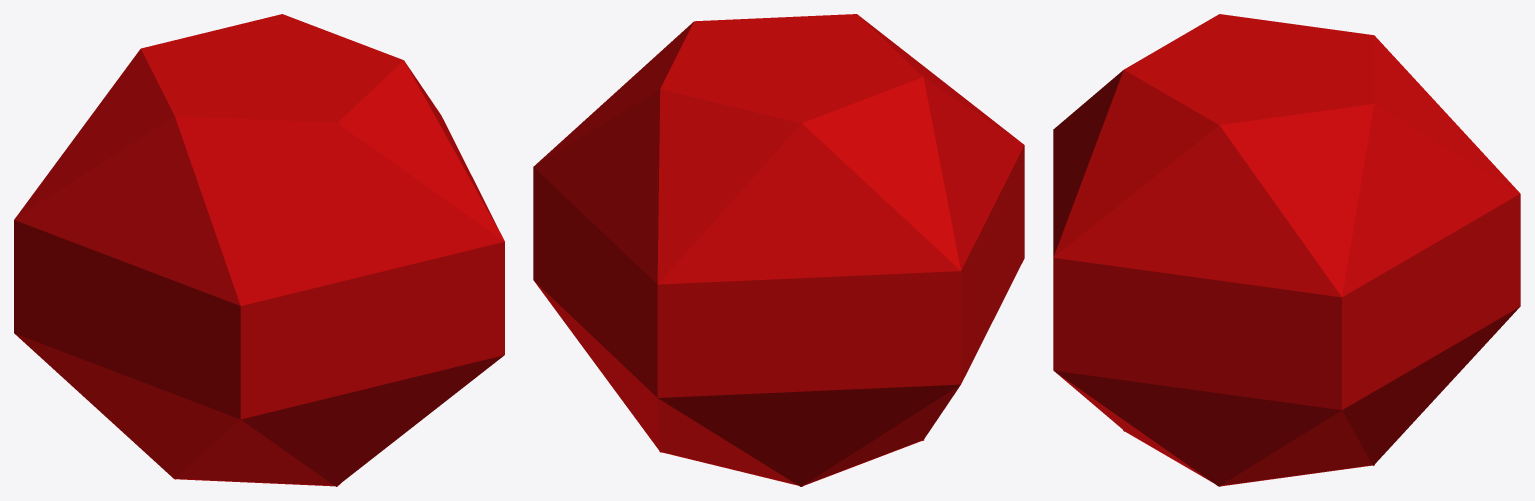
The model's file is Bonus.gltf.
The picture shows the model from 3 angles, left to right: view 1: azimuth 30°, elevation 25°; view 2: azimuth 150°, elevation 25°; view 3: azimuth 270°, elevation 25°; orthographic projection.
Visible parts, largest first — view 1: 球.002; view 2: 球.002; view 3: 球.002.
Part boxes in pixels (box(x1,y1,x2,y2)): 球.002: box(14, 14, 504, 486); 球.002: box(533, 14, 1024, 486); 球.002: box(1053, 14, 1520, 486).
Size of the model in its own units: 0.4942 by 0.4017 by 0.47.
